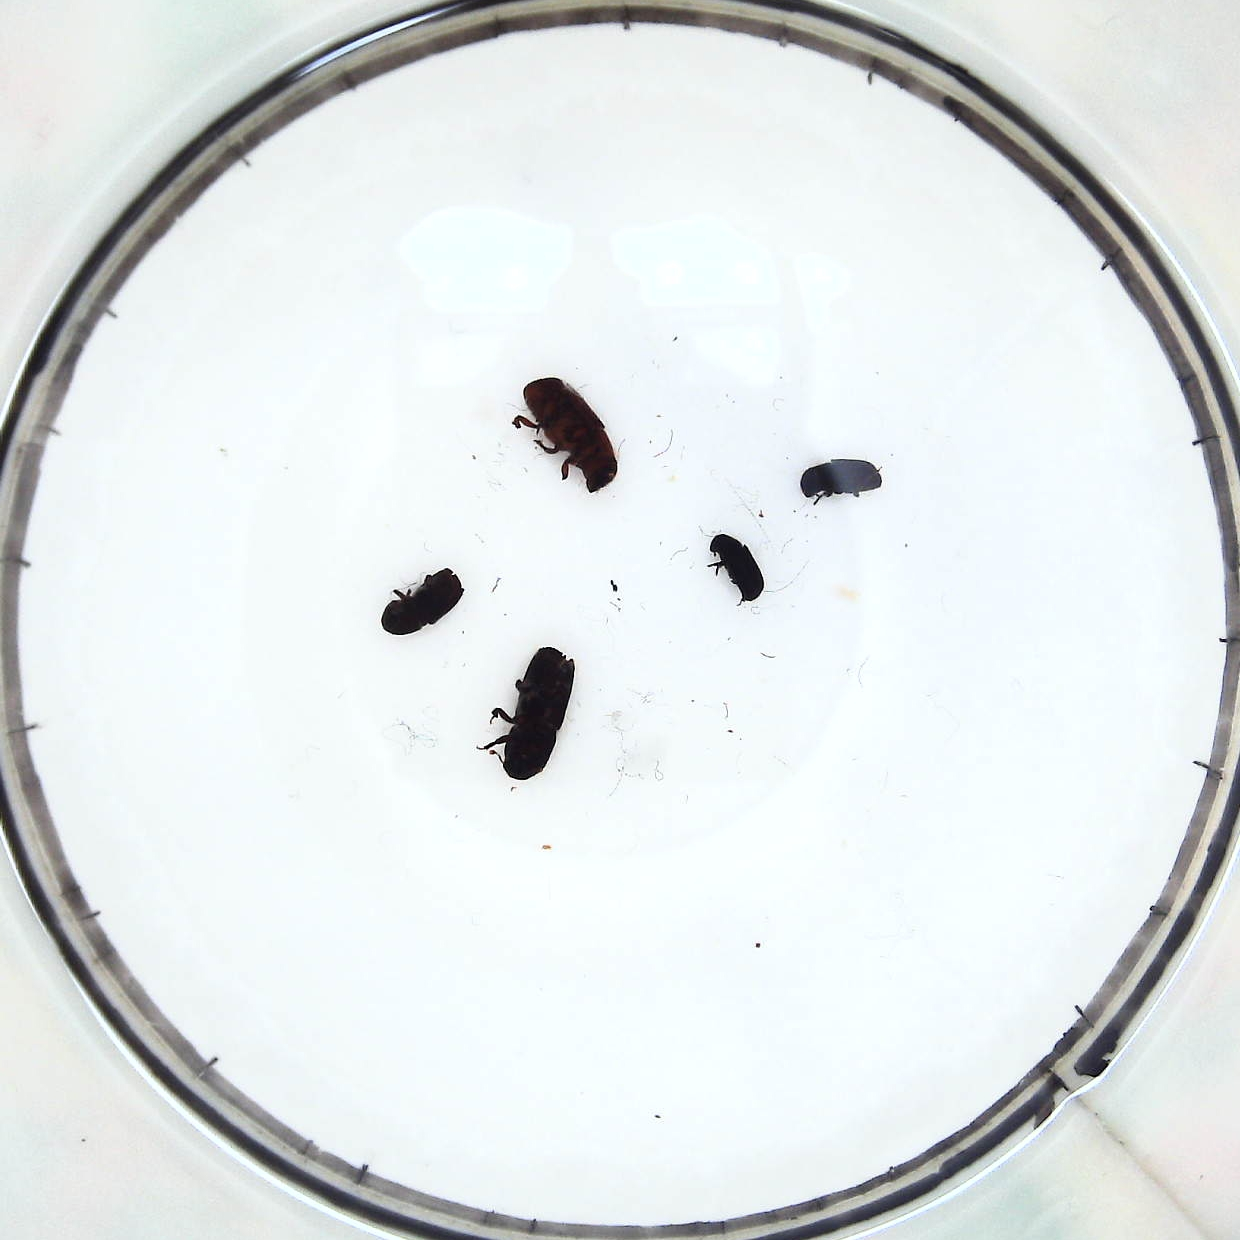Boerner: (496, 646, 576, 780)
Leconte: (517, 377, 620, 498)
Linnaeus: (380, 565, 462, 636)
armandi: (799, 458, 886, 506)
coleoptera: (710, 533, 766, 603)
